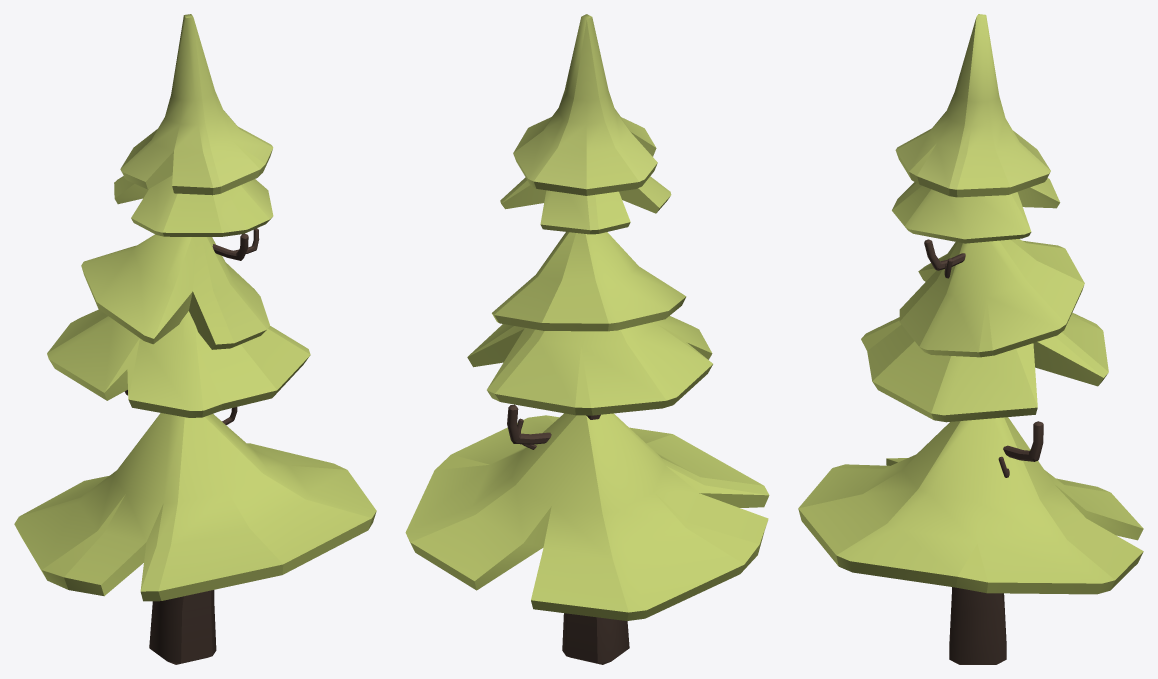
The model's file is prop_tree_pine_01.fbx.
The picture shows the model from 3 angles, left to right: view 1: azimuth 30°, elevation 25°; view 2: azimuth 150°, elevation 25°; view 3: azimuth 270°, elevation 25°; orthographic projection.
Parts seen in each view (by area): view 1: prop_tree_pine_01; view 2: prop_tree_pine_01; view 3: prop_tree_pine_01.
Part boxes in pixels (x1,y1,x2,y2): prop_tree_pine_01: [14, 14, 376, 664]; prop_tree_pine_01: [405, 14, 769, 664]; prop_tree_pine_01: [798, 14, 1143, 664].
Bounding box in the file's own units: 588 × 1190 × 578.
